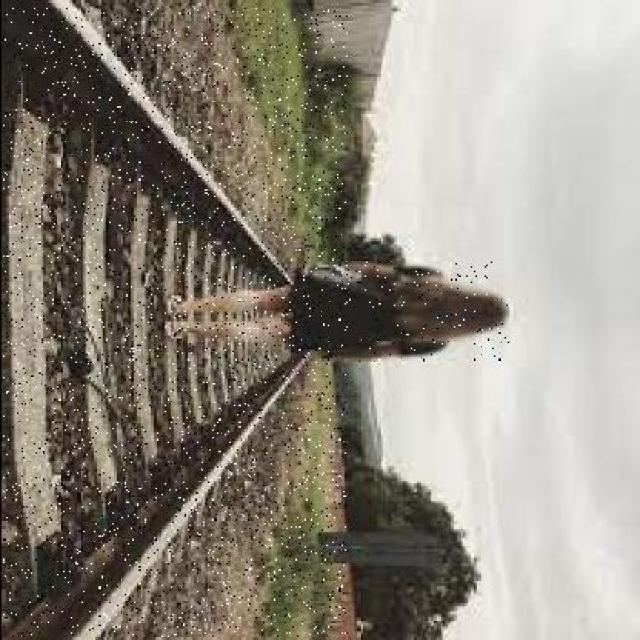danger: (162, 260, 507, 362)
rail: (2, 8, 345, 637)
